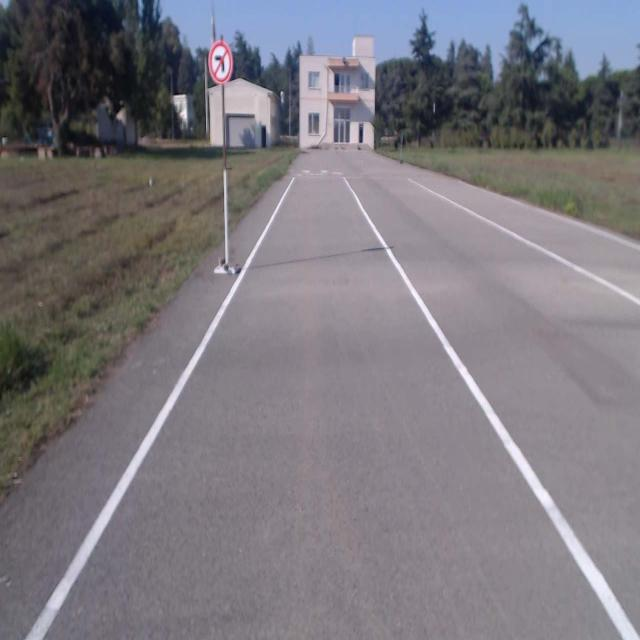soladonulmez: (209, 41, 233, 83)
